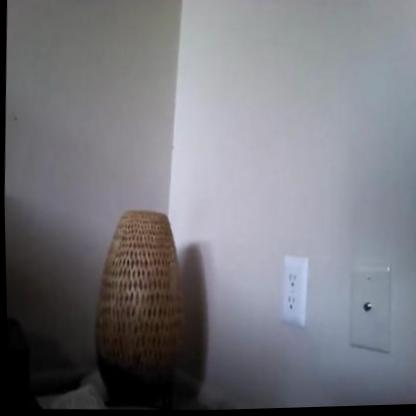OUTLET: (281, 256, 311, 327)
